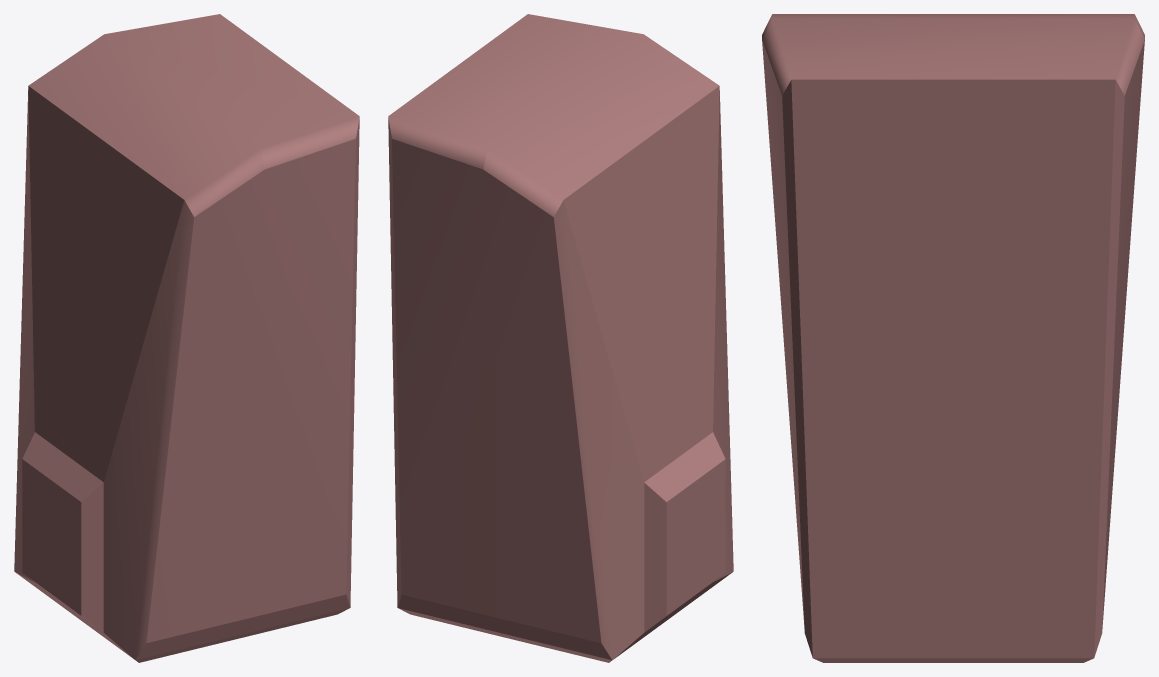
File: Jabon.fbx
3 renders of one model, left to right at view 1: azimuth 30°, elevation 25°; view 2: azimuth 150°, elevation 25°; view 3: azimuth 270°, elevation 25°, orthographic. The views are drawn at different scales.
Parts seen in each view (by area): view 1: Jabon; view 2: Jabon; view 3: Jabon.
Boxes of the visible parts, <box> form: Jabon: <box>14,14,359,662</box>; Jabon: <box>388,14,733,662</box>; Jabon: <box>762,14,1144,662</box>.
Size of the model in its own units: 0.1218 by 0.2475 by 0.1461.
